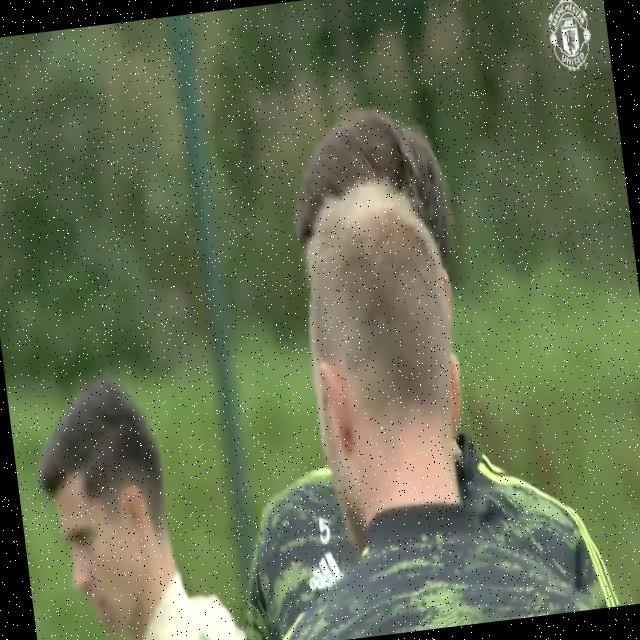Adidas: (305, 547, 347, 593)
